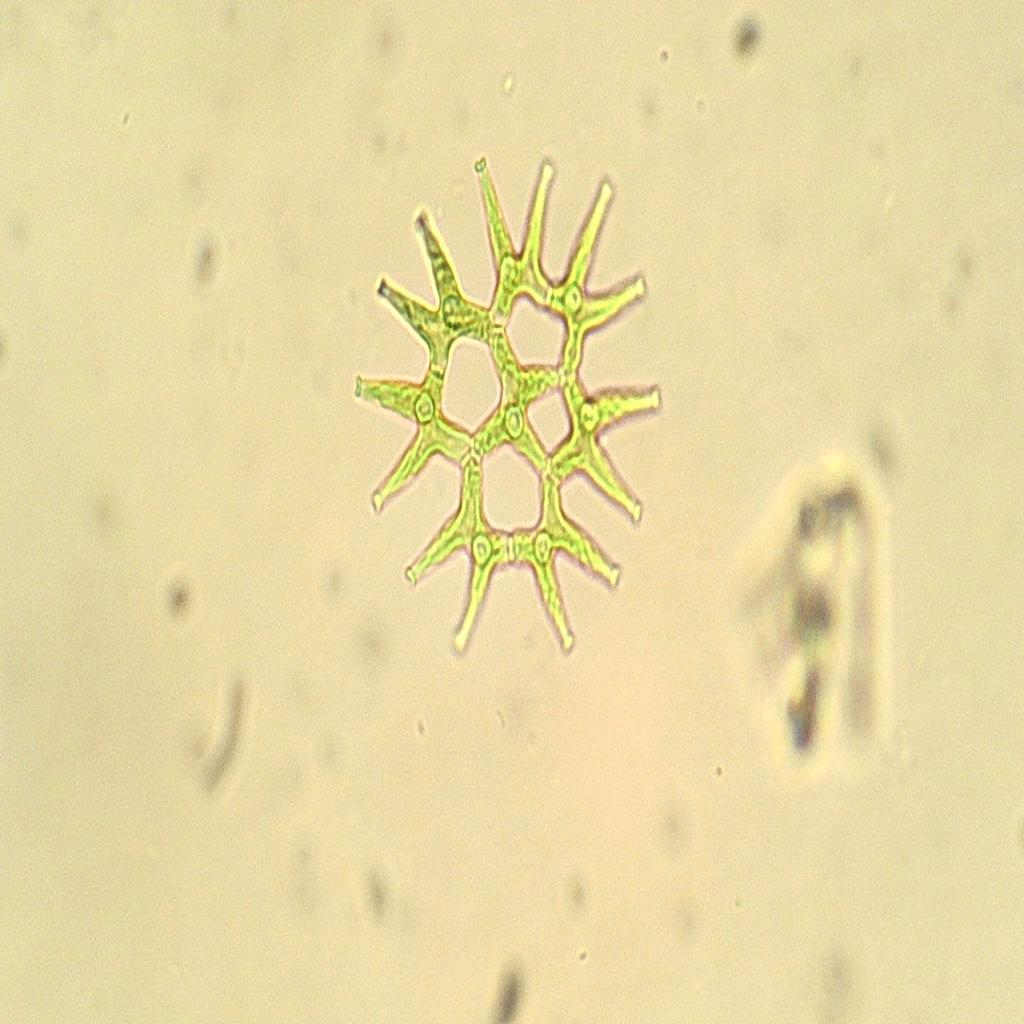Pediastrum_75T: (349, 122, 668, 666)
